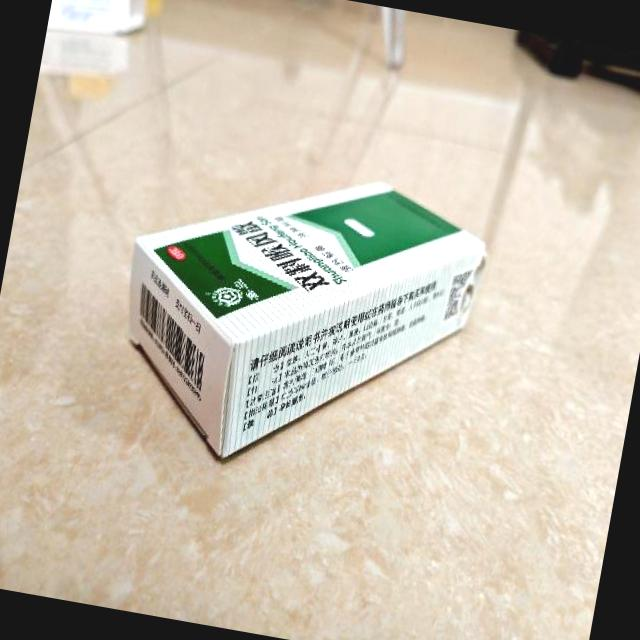box: (102, 140, 493, 500)
